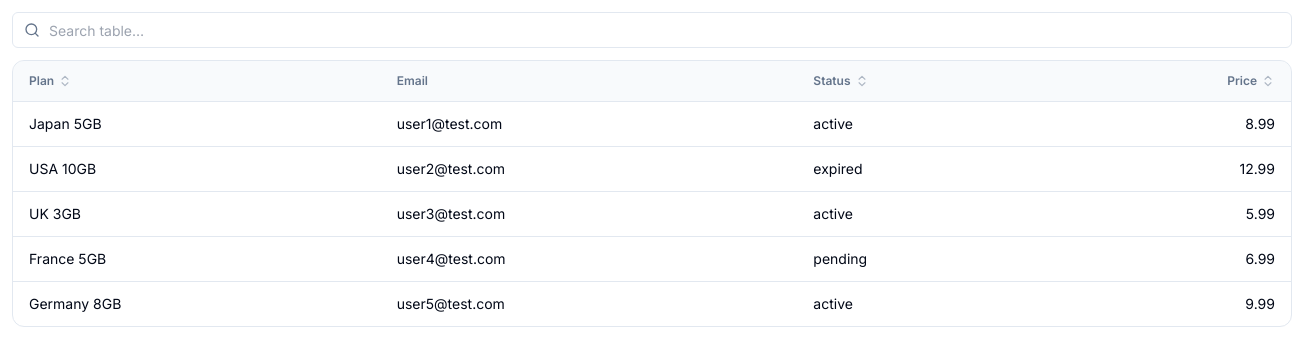
Test: DataTable › clears search when X button clicked
Step 1. Type "Japan" into the search field → (652, 30), box [12,12,1292,48]
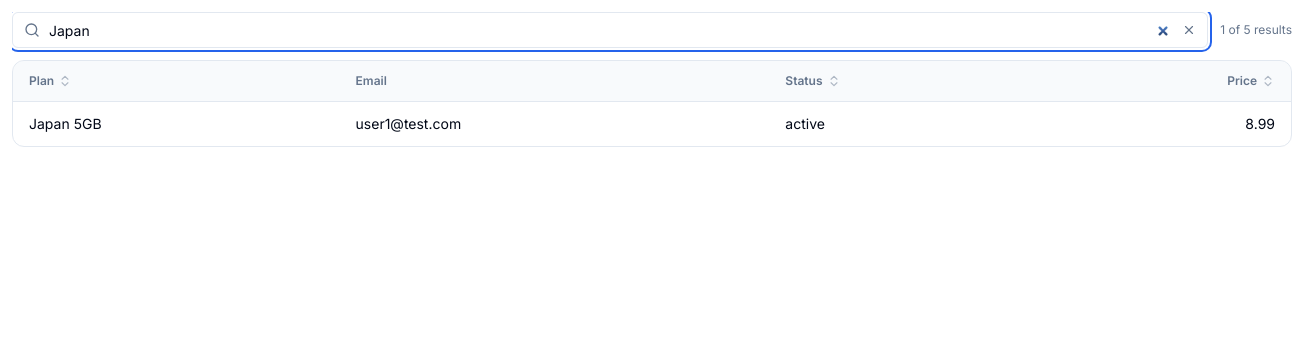
Expected: the text "USA 10GB" is gone
Step 2. Click the button named "Clear search" → (1189, 30), box [1182,23,1196,37]
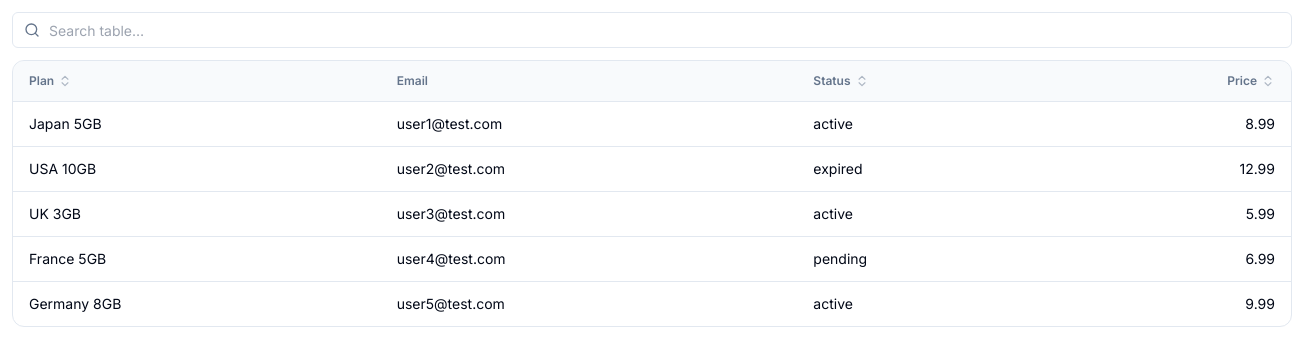
Expected: the text "USA 10GB" is shown, [13,146,381,192]
